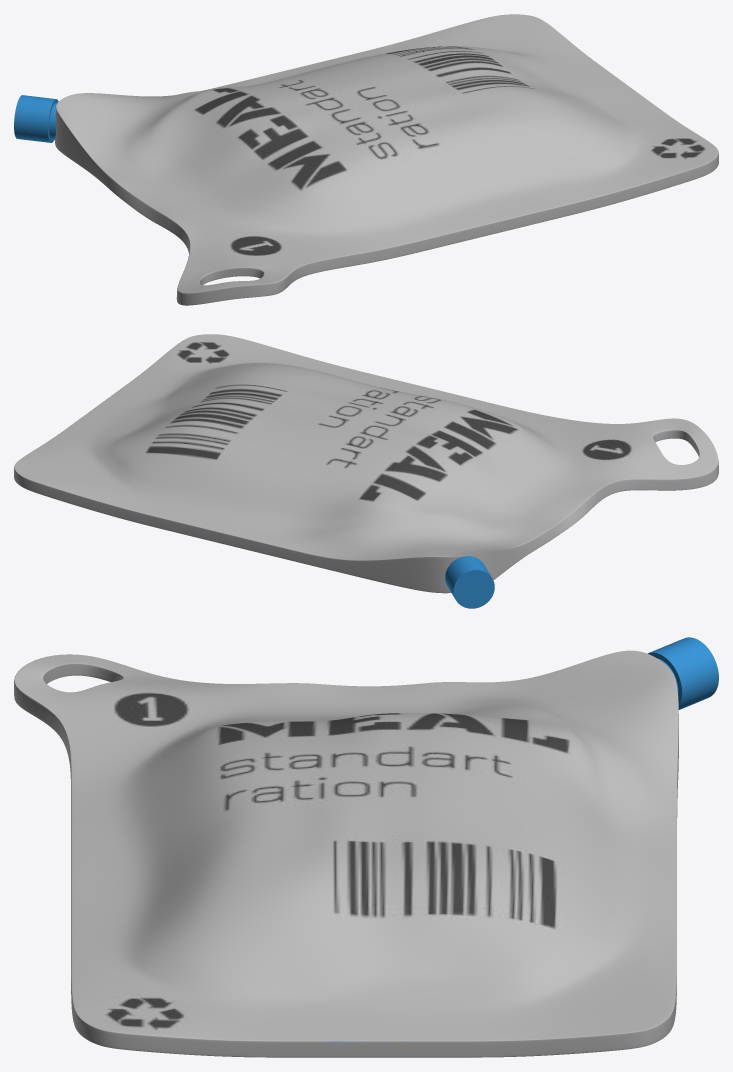
File: spaceFood2.fbx
3 renders of one model, top to bottom at view 1: azimuth 30°, elevation 25°; view 2: azimuth 150°, elevation 25°; view 3: azimuth 270°, elevation 25°, orthographic. The views are drawn at different scales.
Visible parts, largest first — view 1: meal1, cap1; view 2: meal1, cap1; view 3: meal1, cap1.
Part boxes in pixels (<box>): meal1: <box>55,14,718,305</box>; cap1: <box>14,95,58,142</box>; meal1: <box>14,334,718,593</box>; cap1: <box>445,556,494,608</box>; meal1: <box>14,650,678,1057</box>; cap1: <box>647,637,718,709</box>.
Bounding box in the file's own units: 21.67 × 2.78 × 16.64.
1 material, 1 textured.
